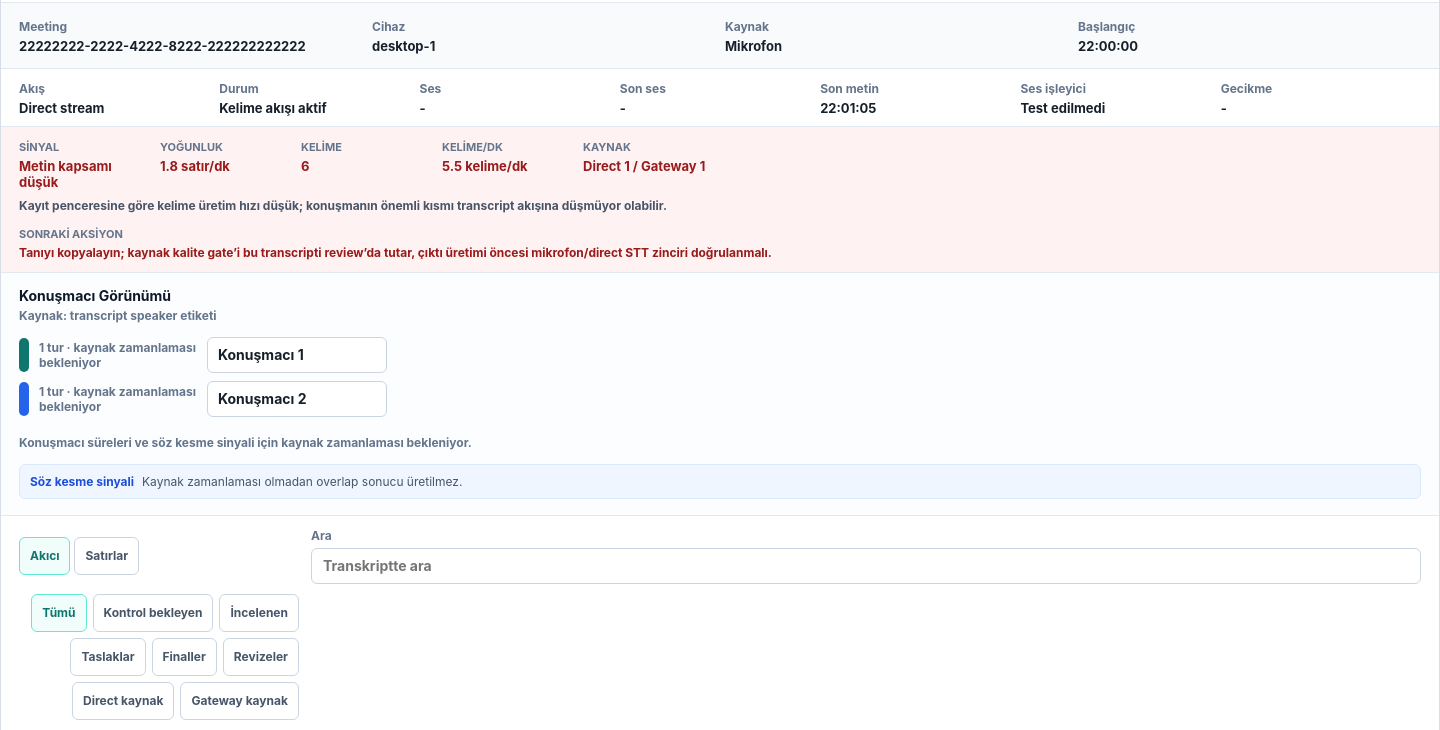
TranscriptPanel › renders newest transcript segment first while keeping statuses visible
Click the button "Satırlar". click: (107, 556)
box: left=74, top=537, right=139, bottom=575
(page scrolled)
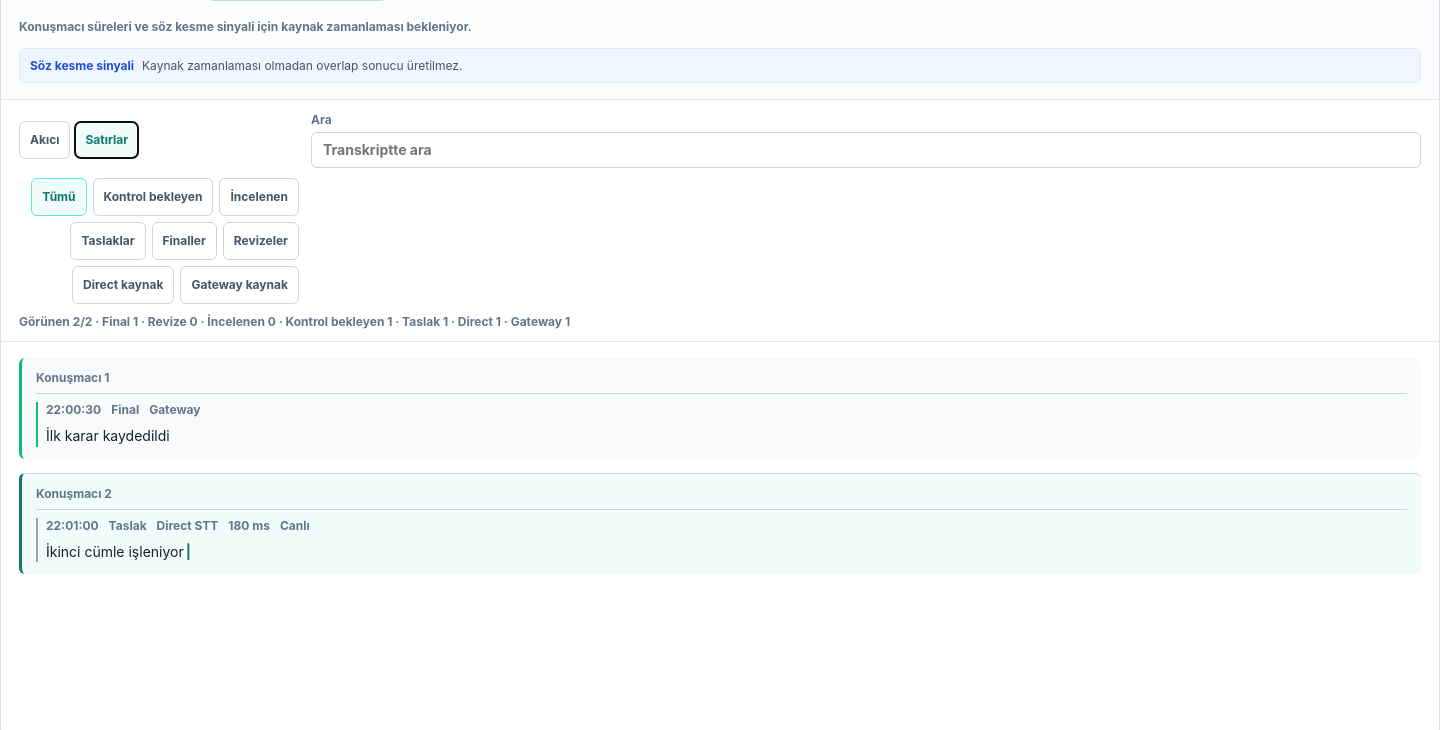
Check: the element that starts with "Konuşmacı 2" shows "İkinci cümle işleniyor", box left=46, top=543, right=184, bottom=560
Check: the element that starts with "Konuşmacı 2" shows "Taslak", box left=109, top=518, right=147, bottom=533
Check: the element that starts with "Konuşmacı 2" shows "Direct STT", box left=157, top=518, right=218, bottom=533
